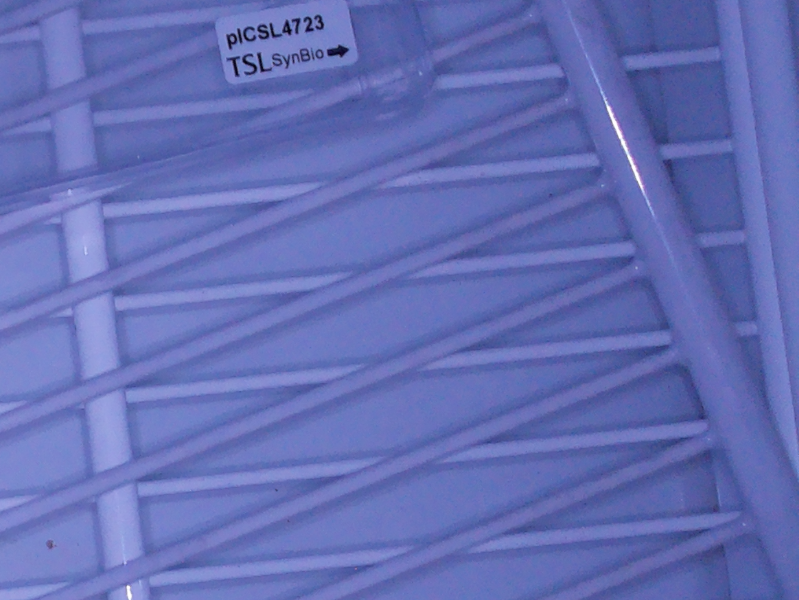plate: (1, 1, 437, 203)
